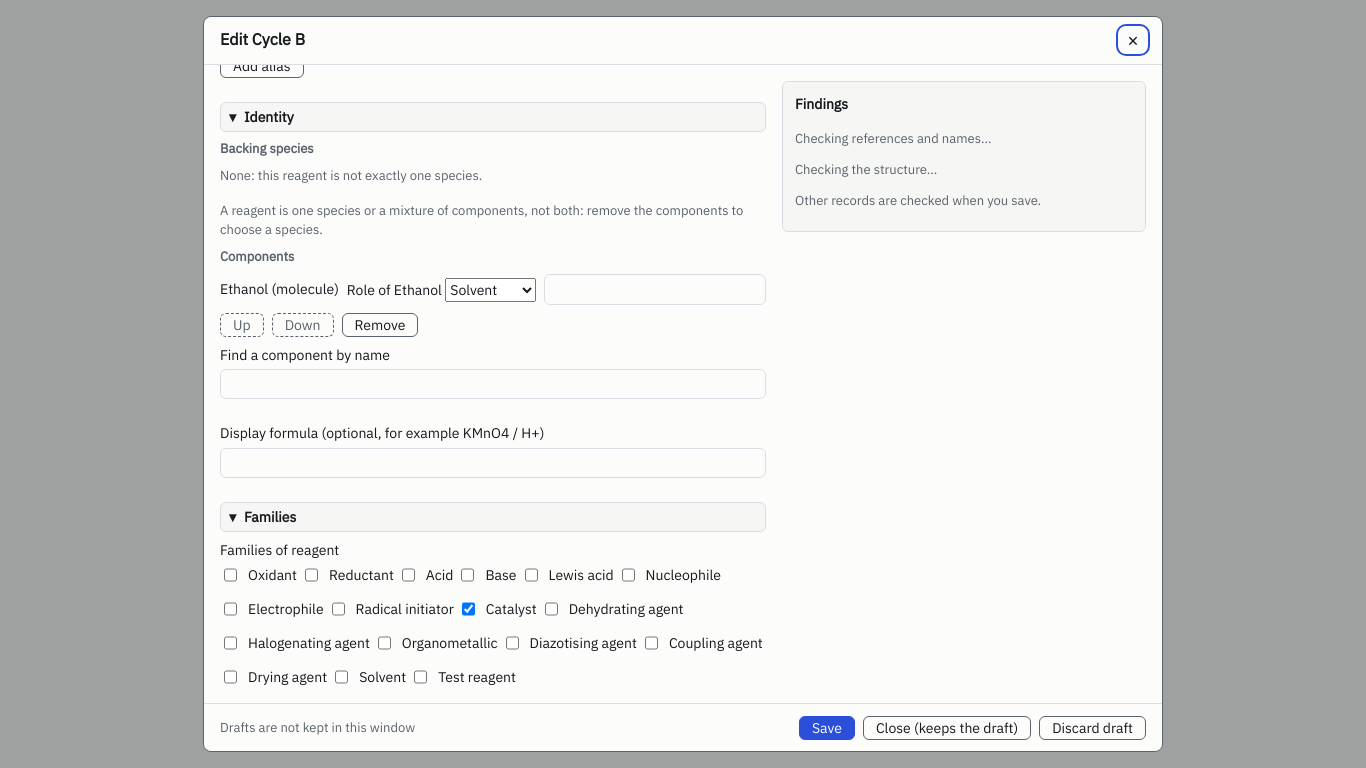
Test case: Identity: one backing species OR components, never both › a component that would close a cycle is refused with the reason and no button (HIER-003, asked before Save)
This screenshot has width=1366, height=768.
(page scrolled)
Type "cycle" into the search field labelled "Find a component by name" at [493, 384], box [220,369,766,399]
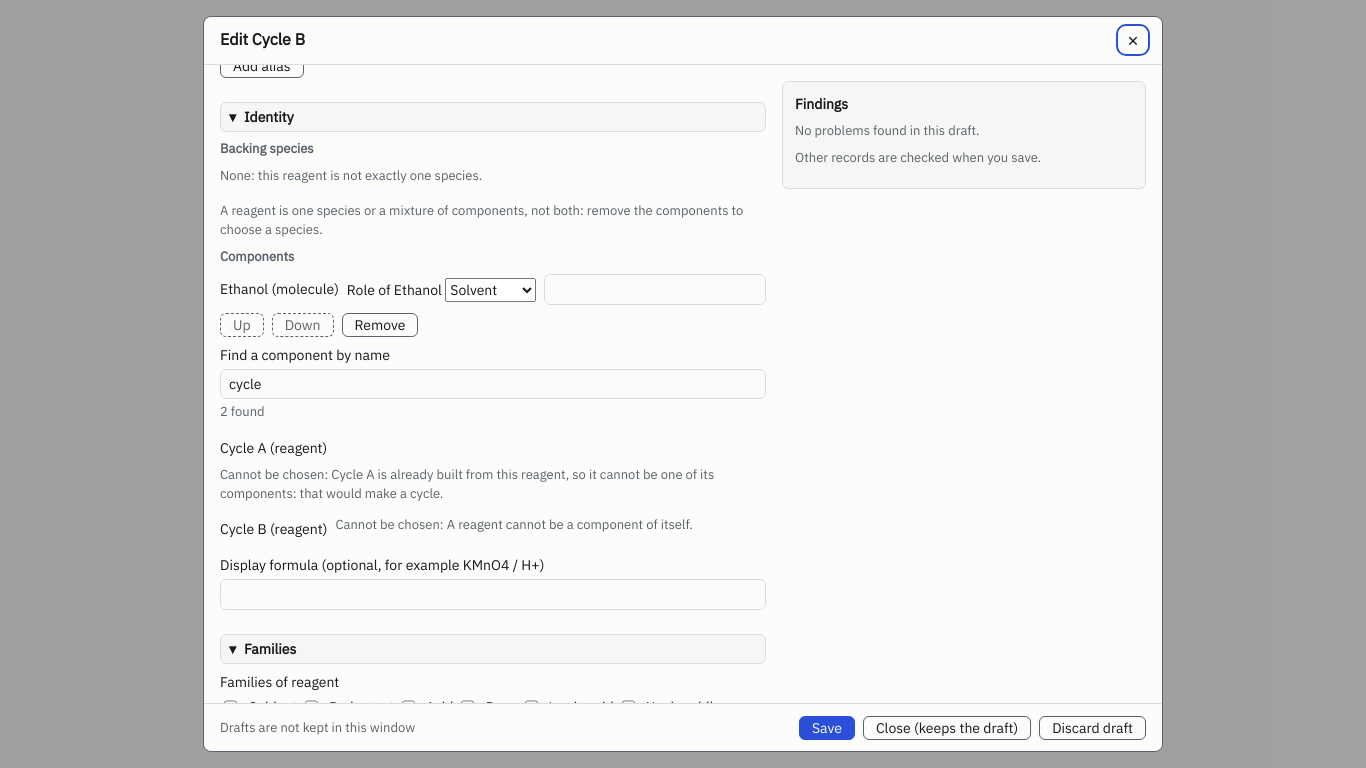
Expected: the text "Cycle A is already built from this reagent, so it cannot be one of its components: that would make a cycle" is shown, [220,466,714,502]
Expected: the text "Cannot be chosen: A reagent cannot be a component of itself." is shown, [335,516,693,535]
